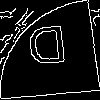D: (25, 25, 70, 76)
